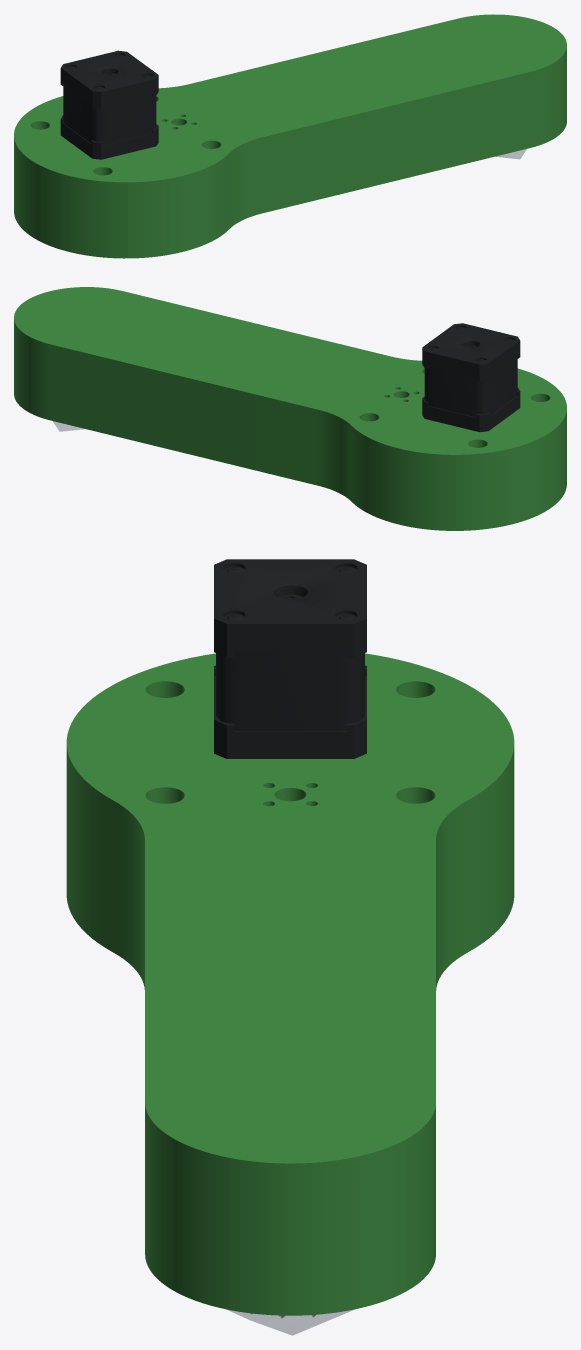
The model's file is carriage_link.glb.
3 renders of one model, top to bottom at view 1: azimuth 30°, elevation 25°; view 2: azimuth 150°, elevation 25°; view 3: azimuth 270°, elevation 25°, orthographic. The views are drawn at different scales.
Parts seen in each view (by area): view 1: carriage_link_printed, carriage_link_motor; view 2: carriage_link_printed, carriage_link_motor; view 3: carriage_link_printed, carriage_link_motor, carriage_link_metal.
Boxes of the visible parts, <box> form: carriage_link_printed: <box>14,14,566,258</box>; carriage_link_motor: <box>60,50,158,159</box>; carriage_link_printed: <box>14,287,566,530</box>; carriage_link_motor: <box>422,323,520,432</box>; carriage_link_printed: <box>66,653,514,1315</box>; carriage_link_motor: <box>214,559,366,758</box>; carriage_link_metal: <box>226,1309,355,1335</box>.
Bounding box in the file's own units: 0.327 × 0.0968 × 0.12.
